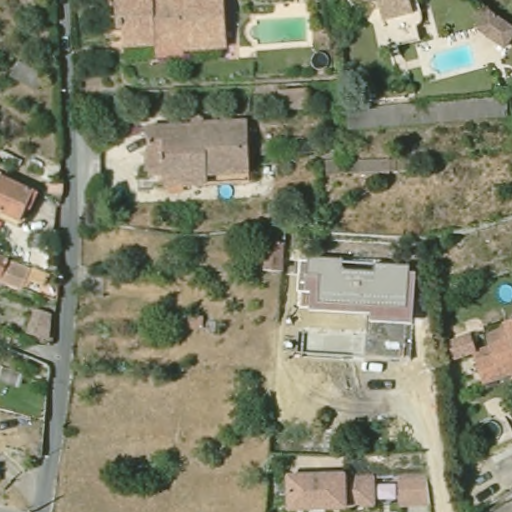pool: (233, 12, 314, 48), (423, 39, 487, 77), (496, 276, 512, 310), (214, 182, 235, 202)
